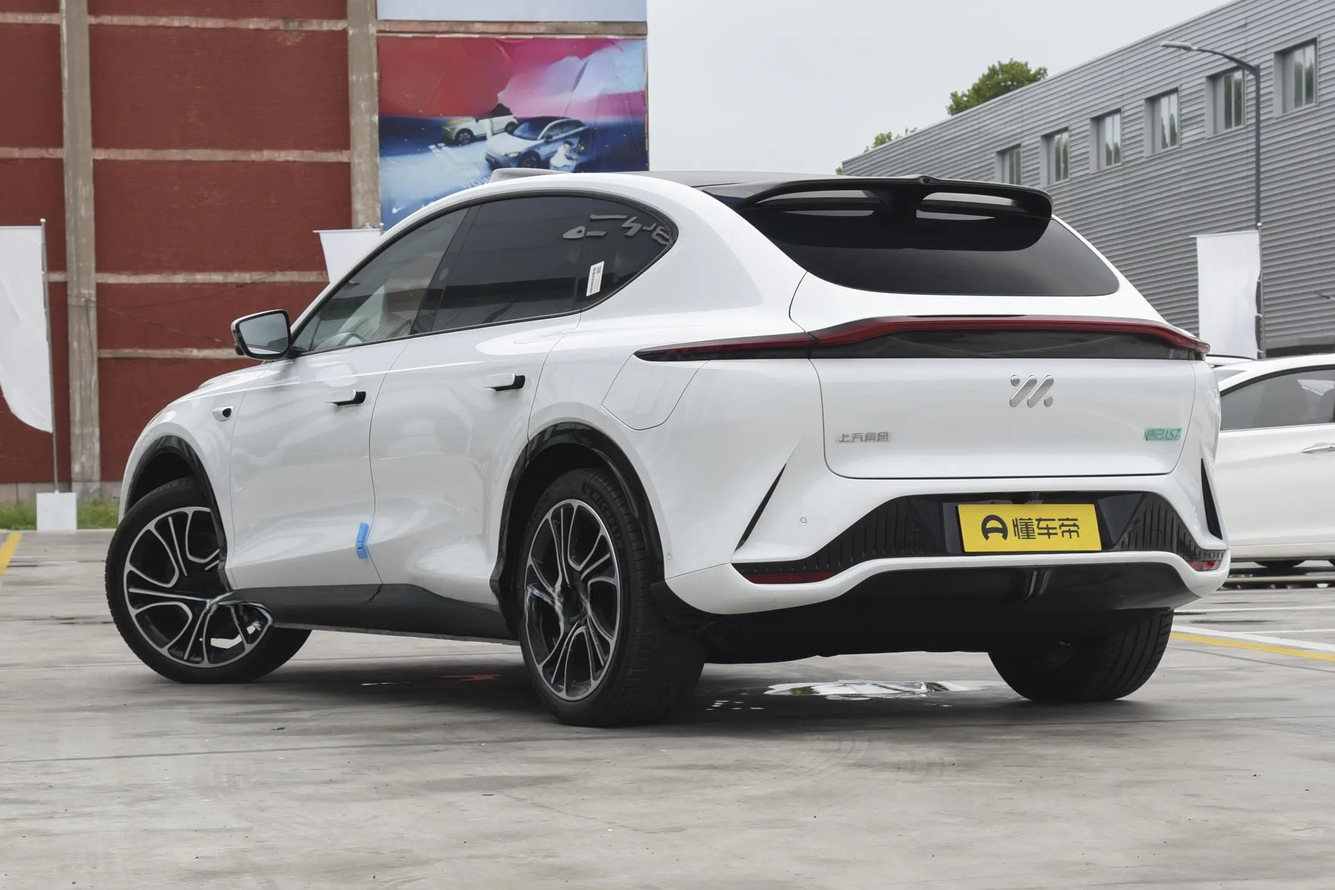IM: (1010, 375, 1055, 407)
